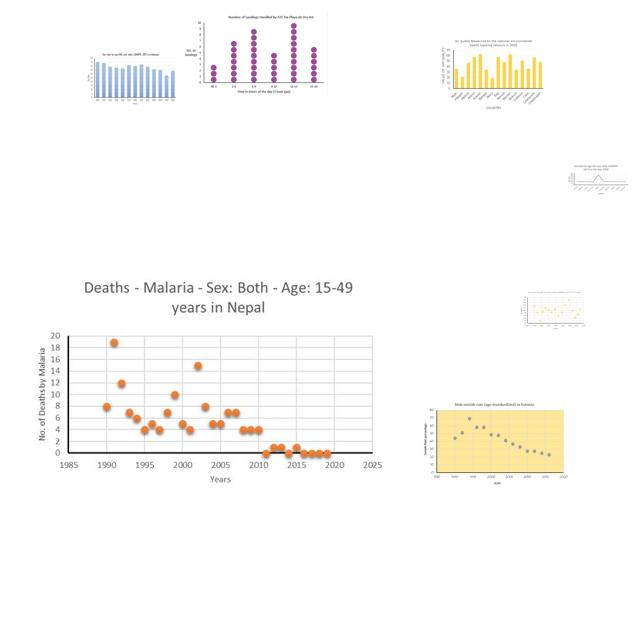Graph: (25, 278, 389, 495), (181, 12, 328, 97), (423, 401, 569, 486), (439, 37, 545, 111), (86, 52, 177, 106), (519, 290, 586, 330), (567, 164, 629, 196)
